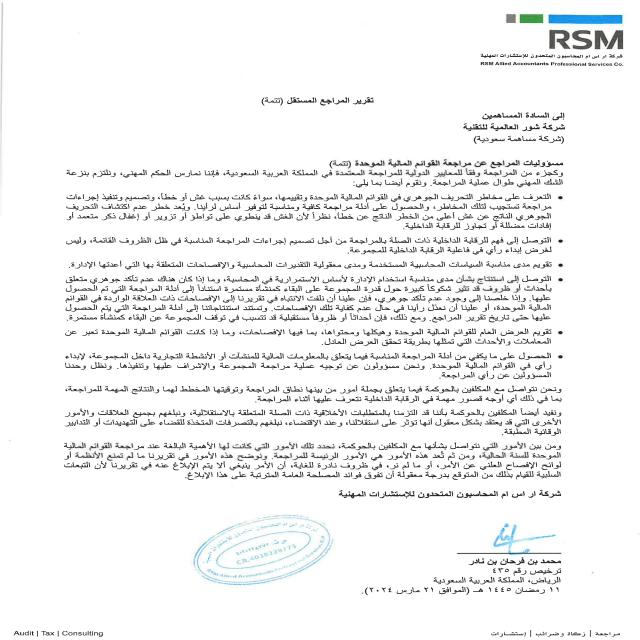auditor_report: (320, 151, 567, 168), (247, 93, 407, 118)
